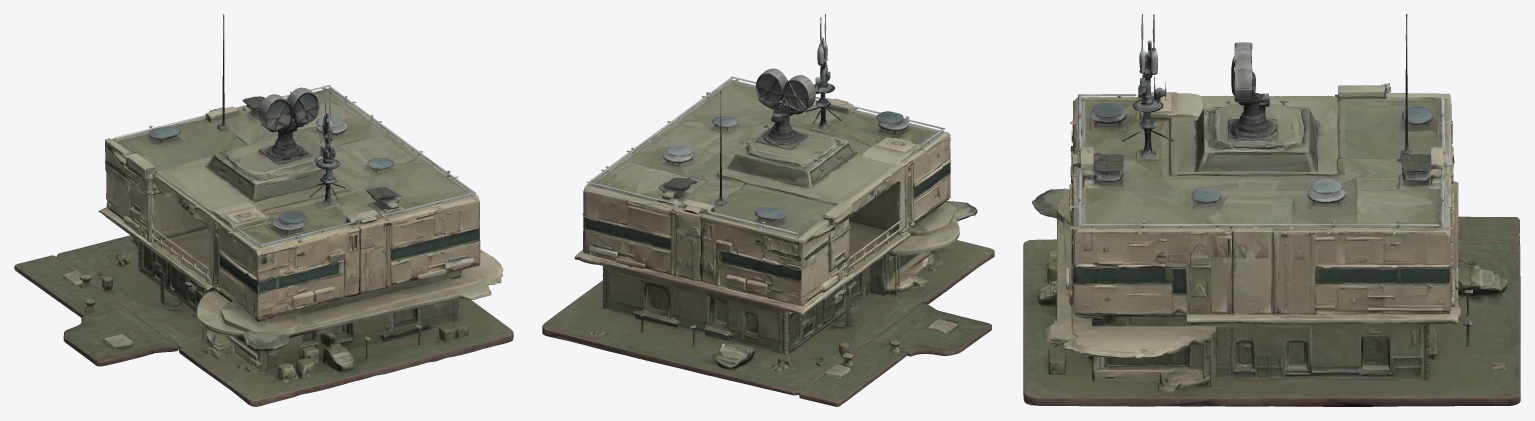
3 views of the same model, side by side, from view 1: azimuth 30°, elevation 25°; view 2: azimuth 150°, elevation 25°; view 3: azimuth 270°, elevation 25° (orthographic). The views are drawn at different scales.
Bounding box in the file's own units: 26 × 17.32 × 25.11.
1 material, 1 textured.
